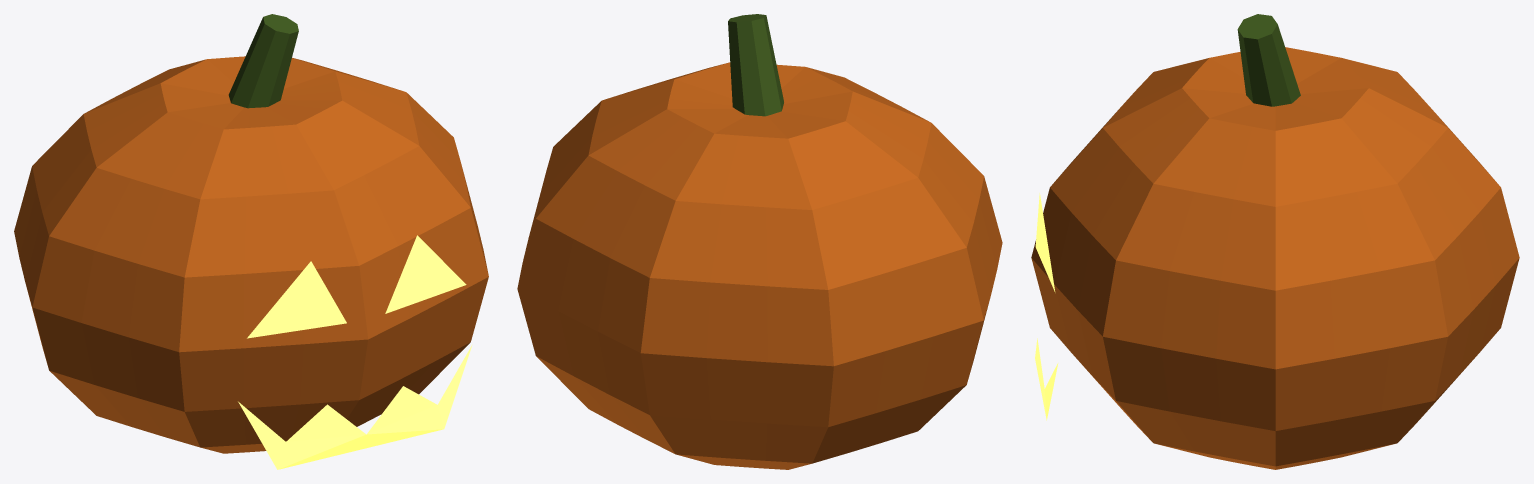
The model's file is jackolantern.glb.
3 views of the same model, side by side, from view 1: azimuth 30°, elevation 25°; view 2: azimuth 150°, elevation 25°; view 3: azimuth 270°, elevation 25° (orthographic). The views are drawn at different scales.
Parts seen in each view (by area): view 1: Jack-o'-Lantern.002; view 2: Jack-o'-Lantern.002; view 3: Jack-o'-Lantern.002.
Part boxes in pixels (x1,y1,x2,y2): Jack-o'-Lantern.002: (14, 14, 488, 469); Jack-o'-Lantern.002: (517, 14, 1002, 469); Jack-o'-Lantern.002: (1031, 14, 1519, 469).
Size of the model in its own units: 0.6427 by 0.5769 by 0.5933.
